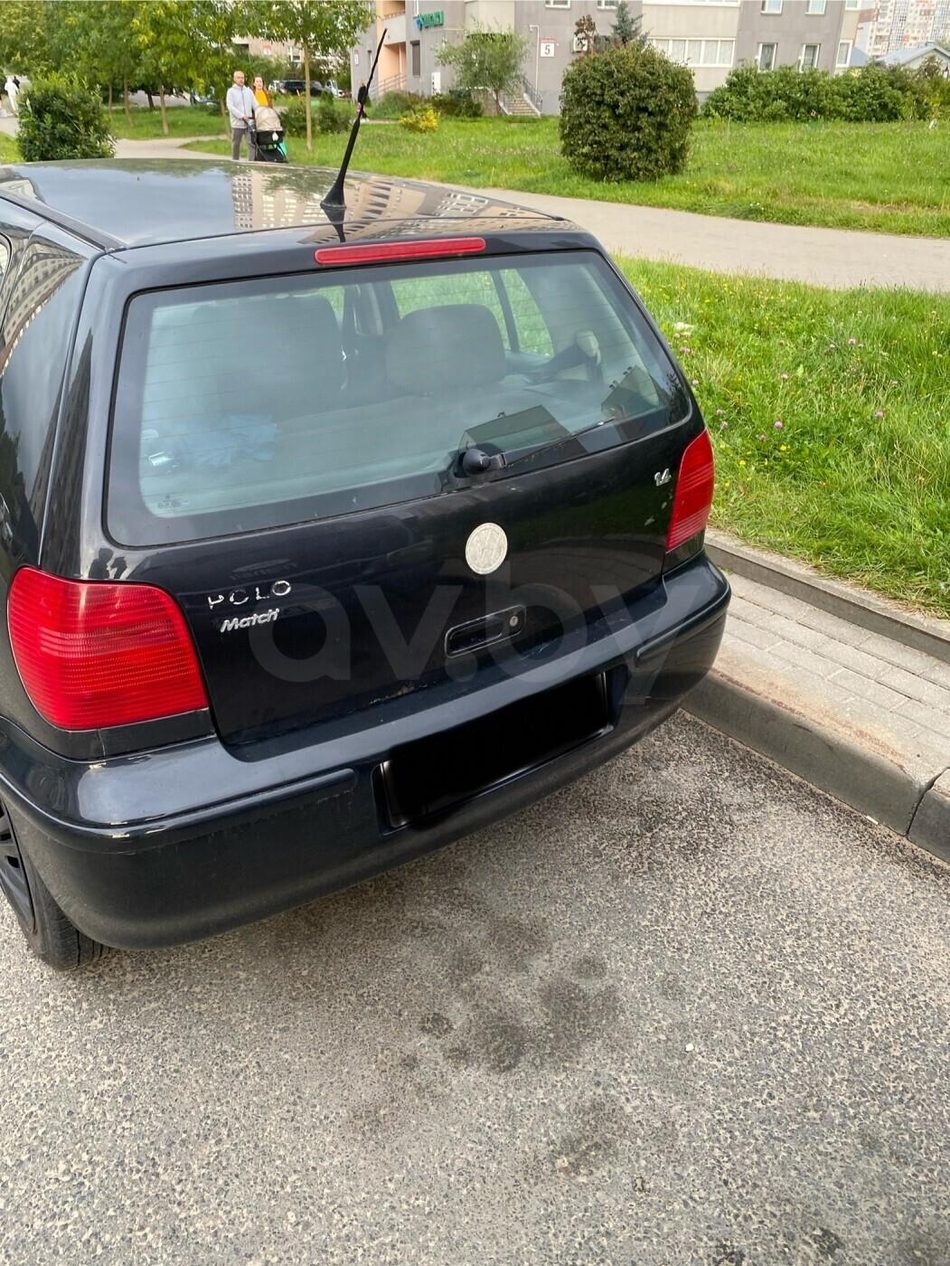Polo_2000-2002: (0, 147, 732, 958)
